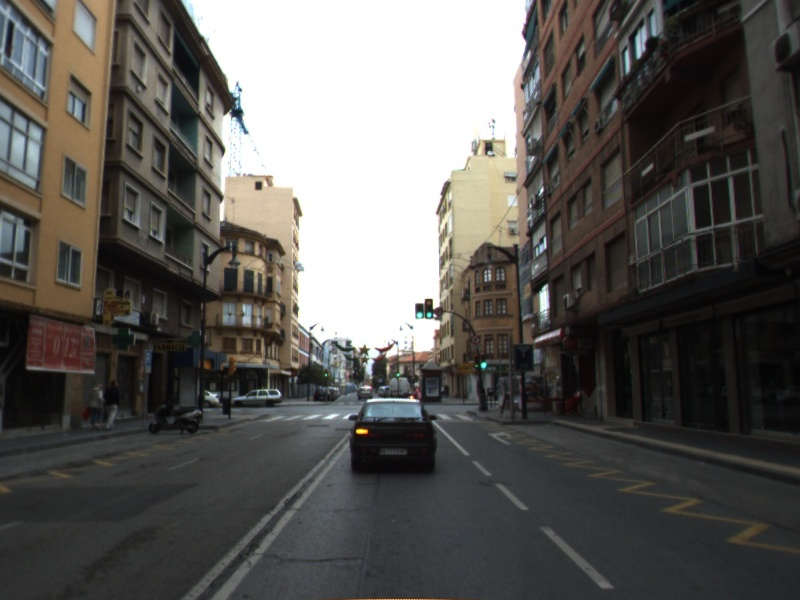RIGHT: (486, 429, 514, 447)
